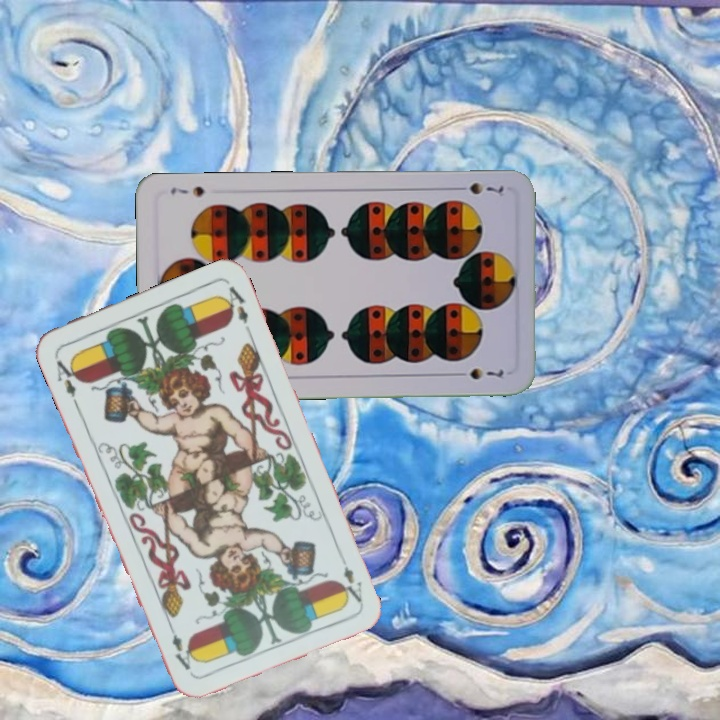EA: (50, 352, 82, 408), (335, 562, 365, 606)
S7: (450, 178, 506, 199)
